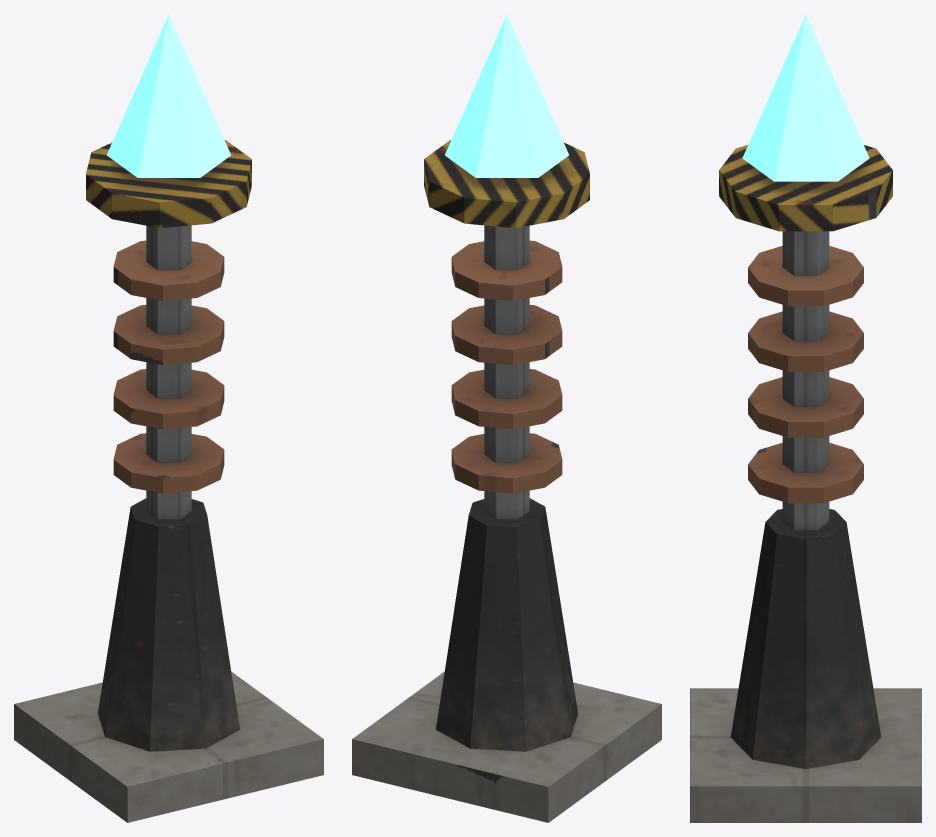
File: torre_sem_fio.glb
3 renders of one model, left to right at view 1: azimuth 30°, elevation 25°; view 2: azimuth 150°, elevation 25°; view 3: azimuth 270°, elevation 25°, orthographic. The views are drawn at different scales.
Visible parts, largest first — view 1: torre_sem_fio_corpo, torre_sem_fio_cristal; view 2: torre_sem_fio_corpo, torre_sem_fio_cristal; view 3: torre_sem_fio_corpo, torre_sem_fio_cristal.
Part boxes in pixels (x1,y1,x2,y2): torre_sem_fio_corpo: [14, 140, 323, 822]; torre_sem_fio_cristal: [107, 14, 230, 177]; torre_sem_fio_corpo: [352, 140, 661, 822]; torre_sem_fio_cristal: [445, 14, 568, 177]; torre_sem_fio_corpo: [690, 145, 921, 822]; torre_sem_fio_cristal: [742, 14, 869, 181].
Bounding box in the file's own units: 0.8 × 2.89 × 0.8.
Materials: 2 (1 with a texture image).
